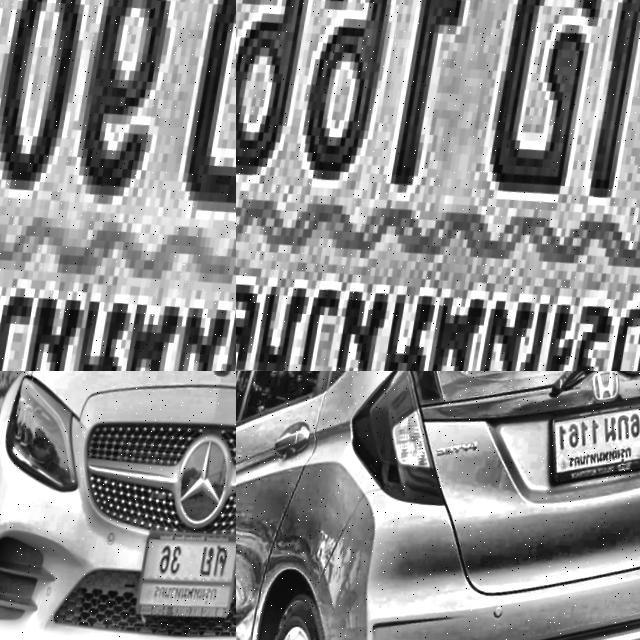license-plate: (236, 0, 640, 371), (0, 0, 236, 371), (133, 524, 236, 637), (538, 393, 640, 504)
